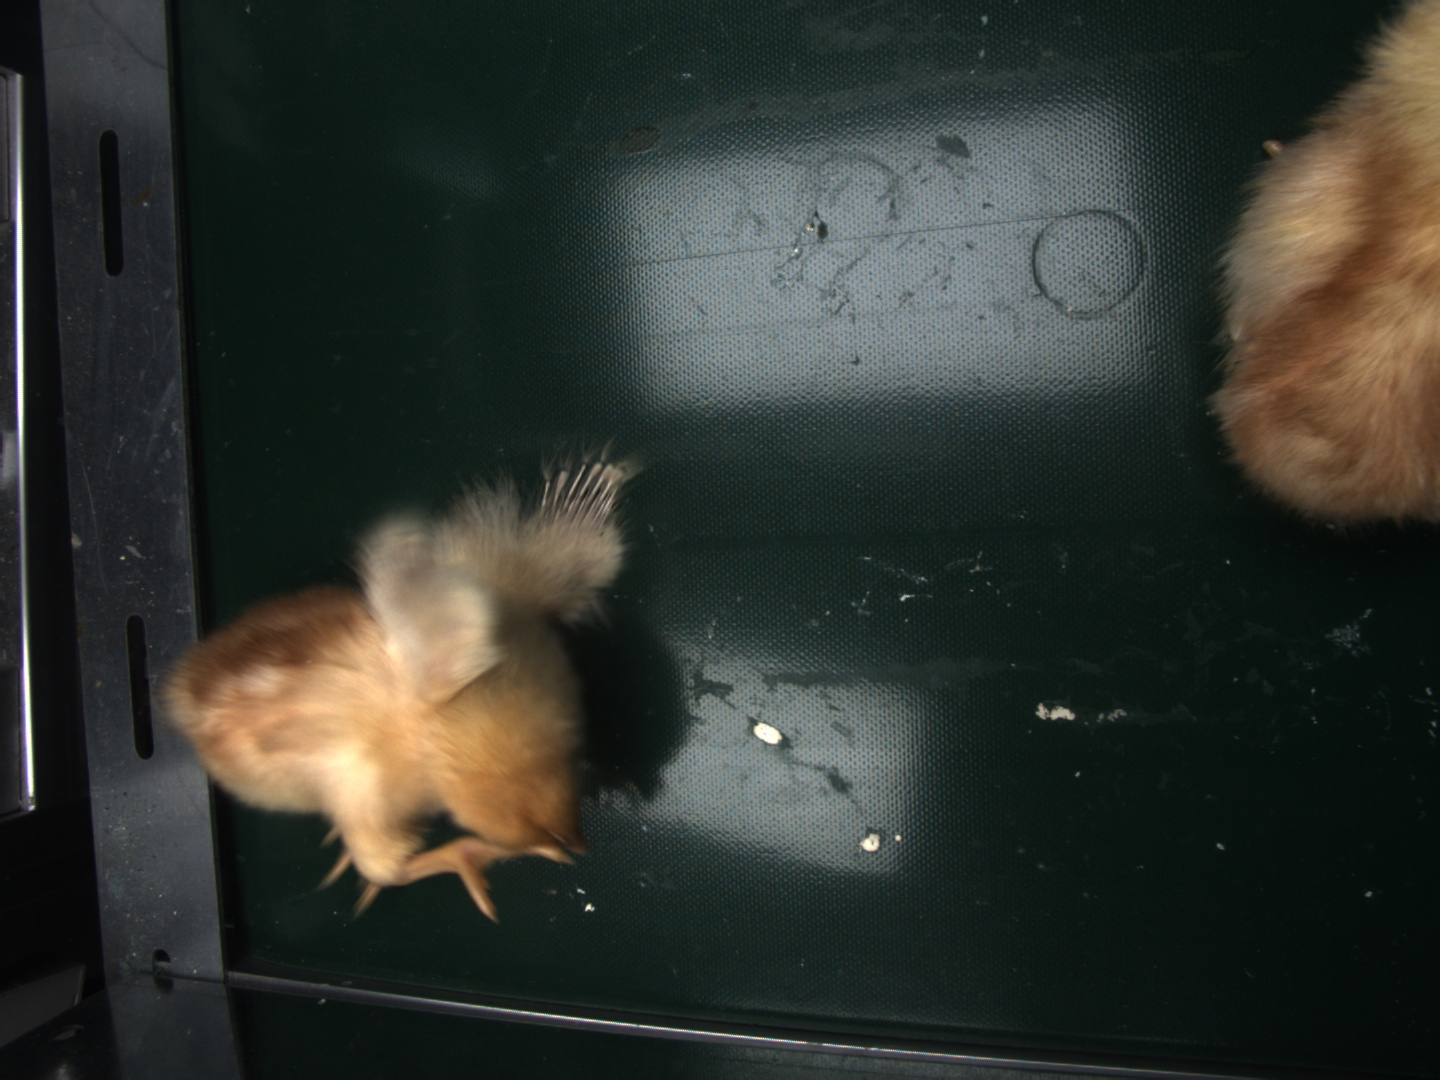female: (543, 458, 622, 521)
